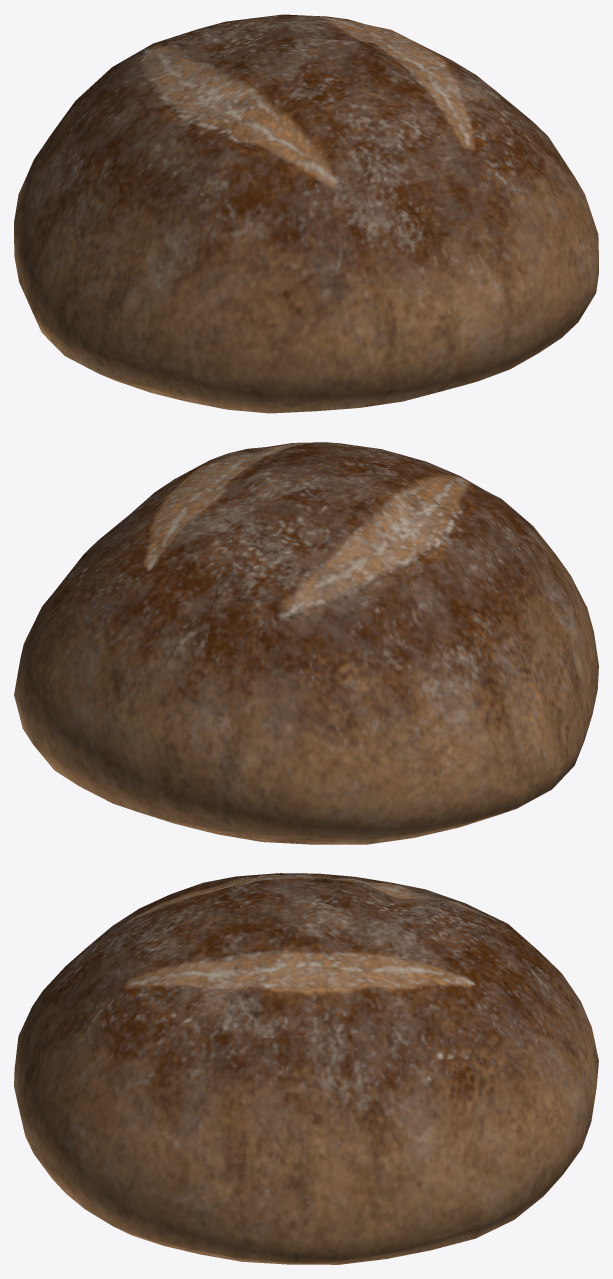
The model's file is Bread_23_honeybread_b_mesh.obj.
The picture shows the model from 3 angles, top to bottom: view 1: azimuth 30°, elevation 25°; view 2: azimuth 150°, elevation 25°; view 3: azimuth 270°, elevation 25°; orthographic projection.
Bounding box in the file's own units: 0.2599 × 0.1315 × 0.2675.
